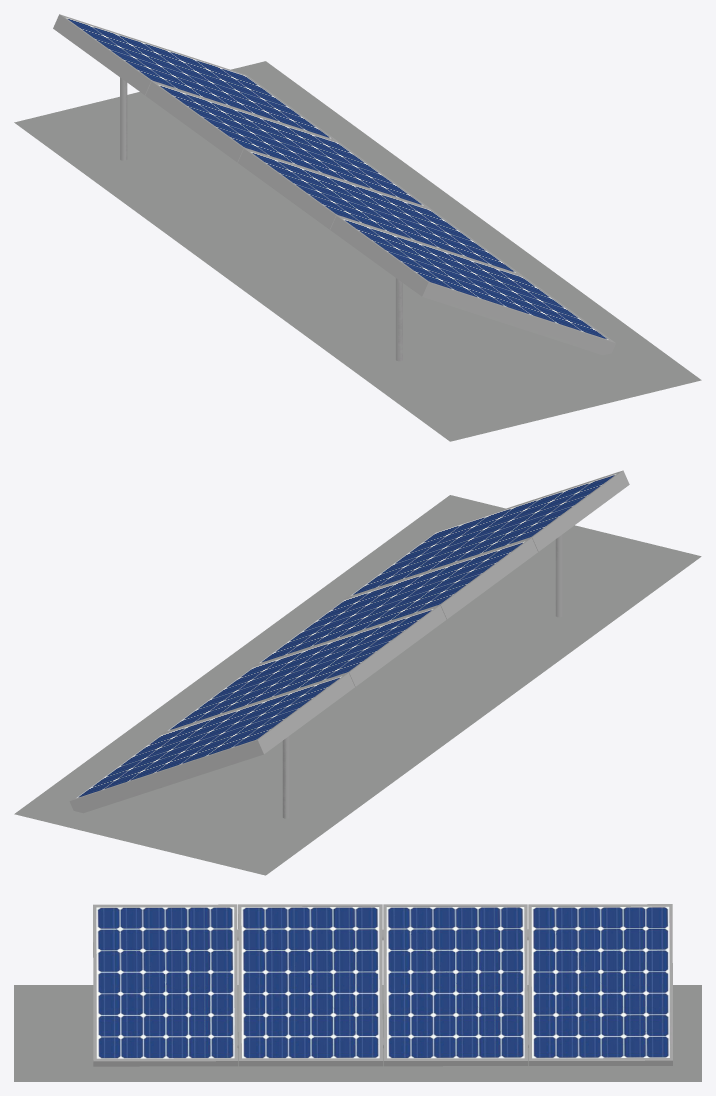
File: solarpanel_addon.glb
3 views of the same model, one above another, from view 1: azimuth 30°, elevation 25°; view 2: azimuth 150°, elevation 25°; view 3: azimuth 270°, elevation 25° (orthographic). The views are drawn at different scales.
Visible parts, largest first — view 1: Solar panel (1), tile_for_home_1x1_007 (37), tile_for_home_1x1_007 (36), tile_for_home_1x1_007 (35); view 2: Solar panel (1), tile_for_home_1x1_007 (35), tile_for_home_1x1_007 (37), tile_for_home_1x1_007 (36); view 3: Solar panel (1), tile_for_home_1x1_007 (37), tile_for_home_1x1_007 (35), tile_for_home_1x1_007 (36).
Part boxes in pixels (x1=…): Solar panel (1): x1=53, y1=14, x2=615, y2=361; tile_for_home_1x1_007 (37): x1=305, y1=274, x2=701, y2=441; tile_for_home_1x1_007 (36): x1=160, y1=167, x2=555, y2=335; tile_for_home_1x1_007 (35): x1=14, y1=61, x2=410, y2=228; Solar panel (1): x1=69, y1=470, x2=629, y2=818; tile_for_home_1x1_007 (35): x1=14, y1=708, x2=410, y2=875; tile_for_home_1x1_007 (37): x1=305, y1=495, x2=701, y2=662; tile_for_home_1x1_007 (36): x1=159, y1=601, x2=556, y2=768; Solar panel (1): x1=93, y1=904, x2=672, y2=1066; tile_for_home_1x1_007 (37): x1=14, y1=985, x2=243, y2=1081; tile_for_home_1x1_007 (35): x1=472, y1=985, x2=701, y2=1081; tile_for_home_1x1_007 (36): x1=243, y1=985, x2=472, y2=1081.
Bounding box in the file's own units: 8 × 4.44 × 24.
2 materials, 2 textured.
